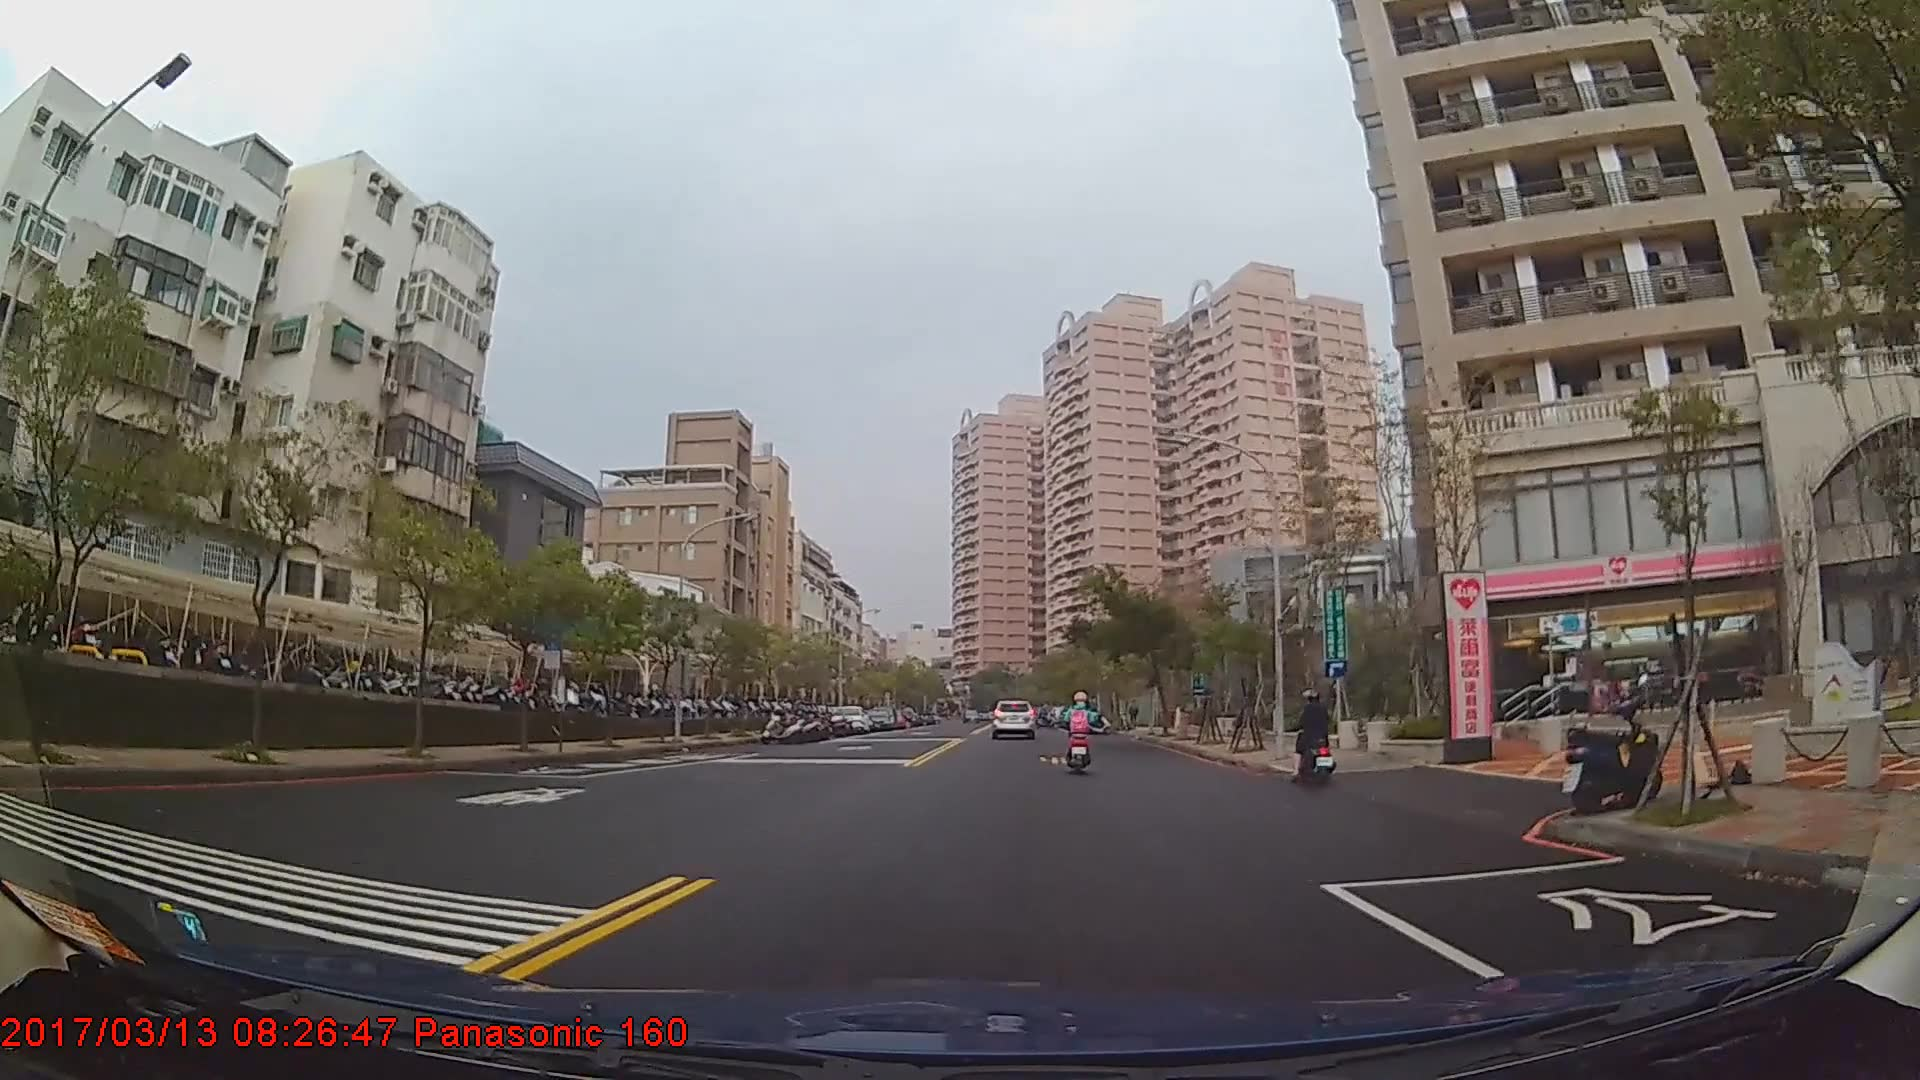rider: (1293, 687, 1337, 779), (1062, 692, 1100, 772)
vehicle: (988, 698, 1039, 738), (829, 704, 867, 732)
